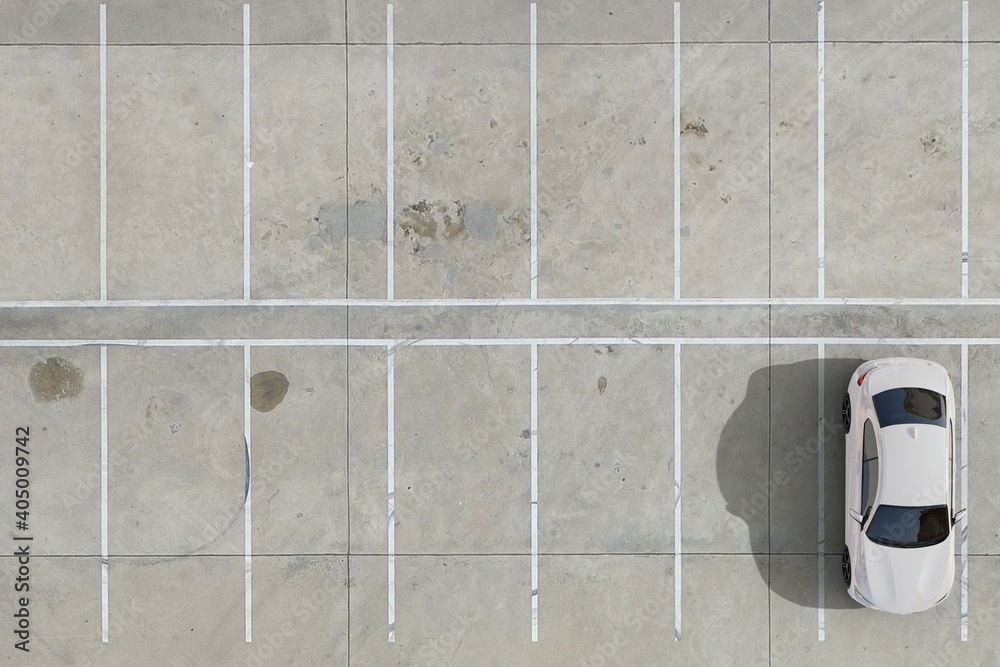bos: (818, 339, 972, 644)
dolu: (816, 1, 970, 308), (674, 337, 826, 646), (243, 5, 394, 308), (387, 339, 540, 637), (532, 340, 685, 637), (674, 3, 824, 303), (388, 6, 537, 308), (102, 342, 253, 640), (532, 3, 680, 304), (103, 2, 249, 307), (243, 342, 393, 630), (1, 5, 109, 309), (1, 339, 112, 634)
